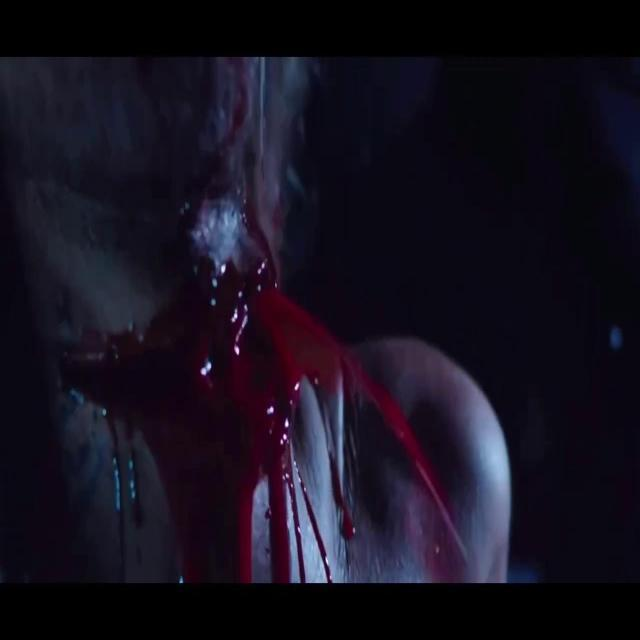flood: (88, 257, 466, 558)
